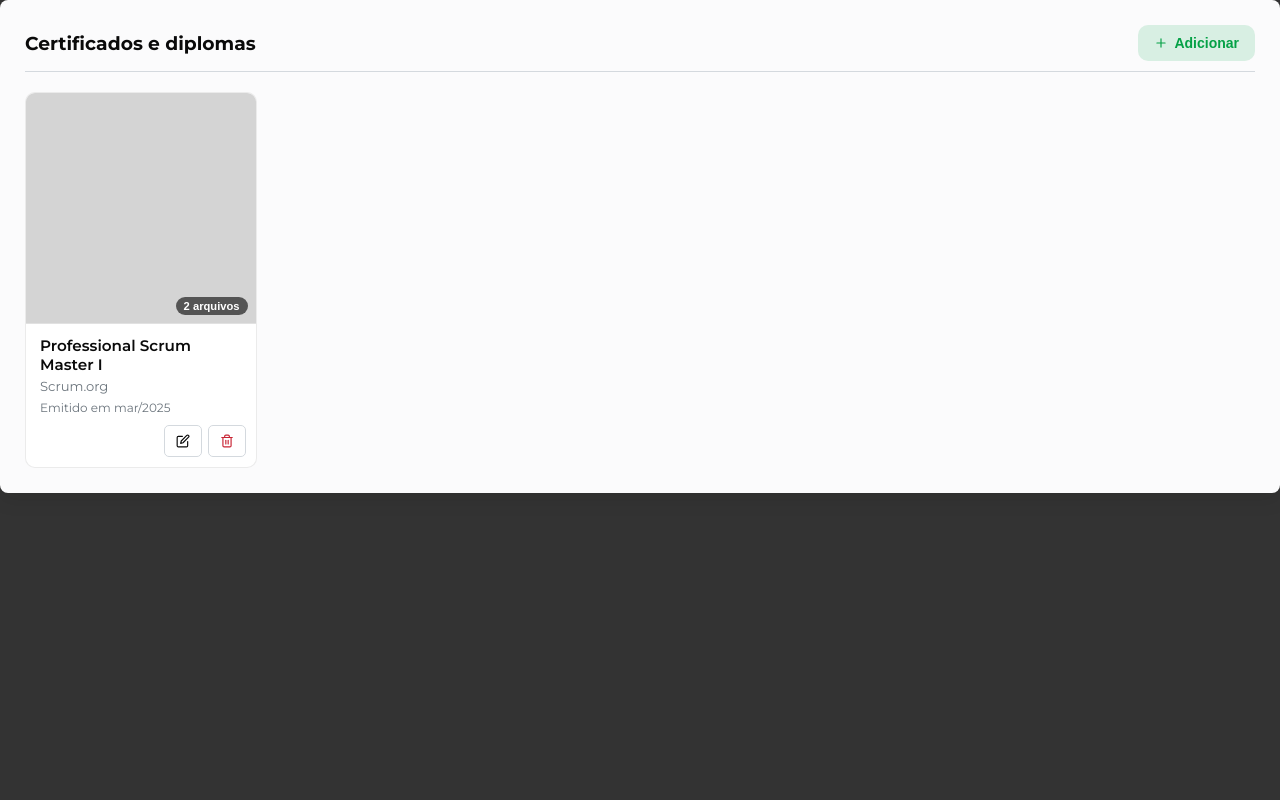
Certificados e diplomas (Perfil) › excluir pede confirmação e remove o card
Click the button named "Excluir Professional Scrum Master I": (227, 441) [208,425,246,457]
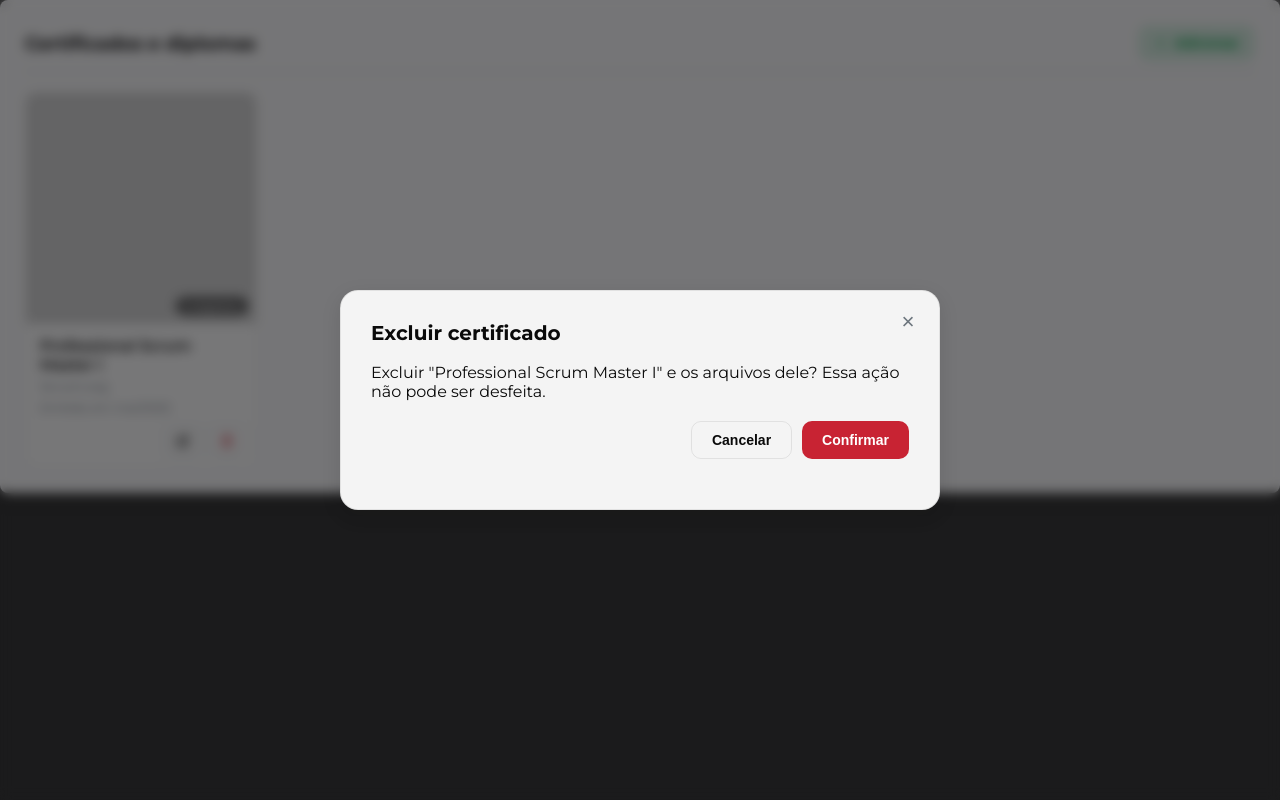
Click the button "Confirmar": (856, 440) [802,421,909,459]
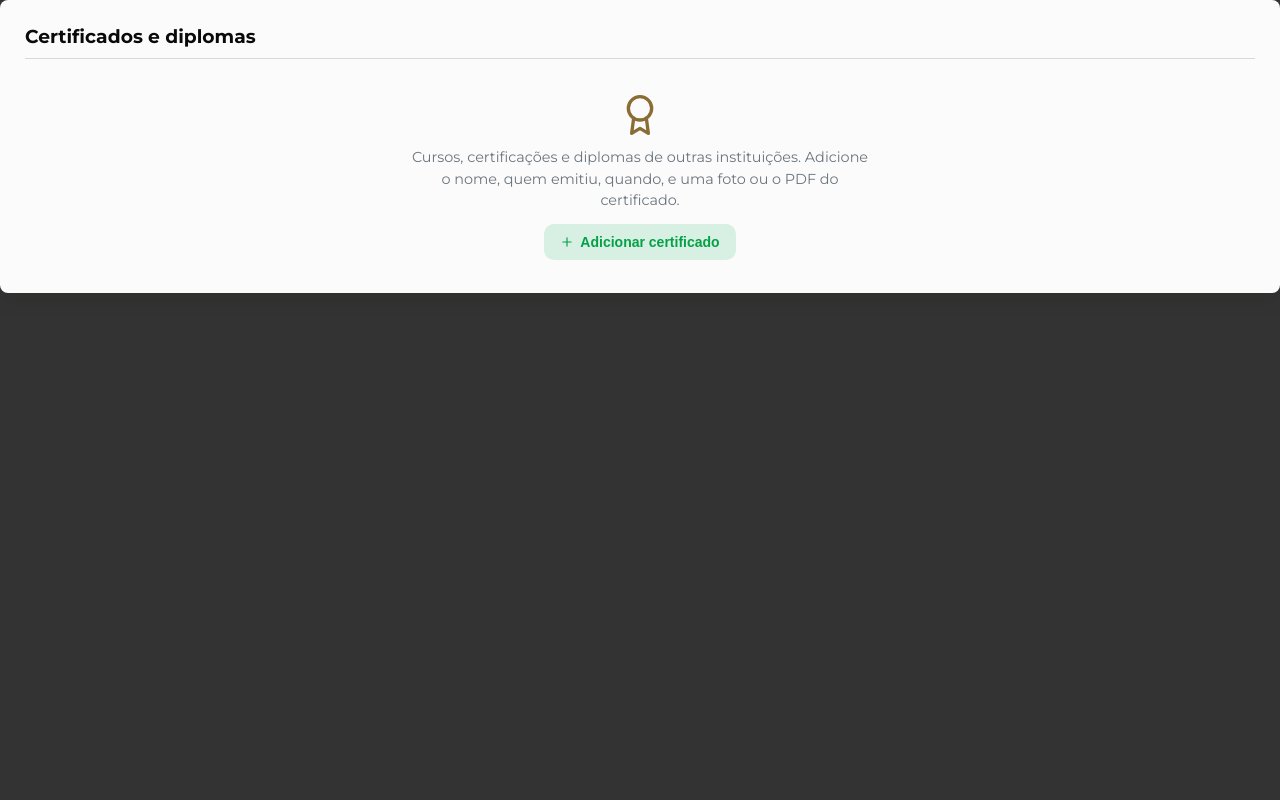
Expected: the heading "Professional Scrum Master I" is gone
